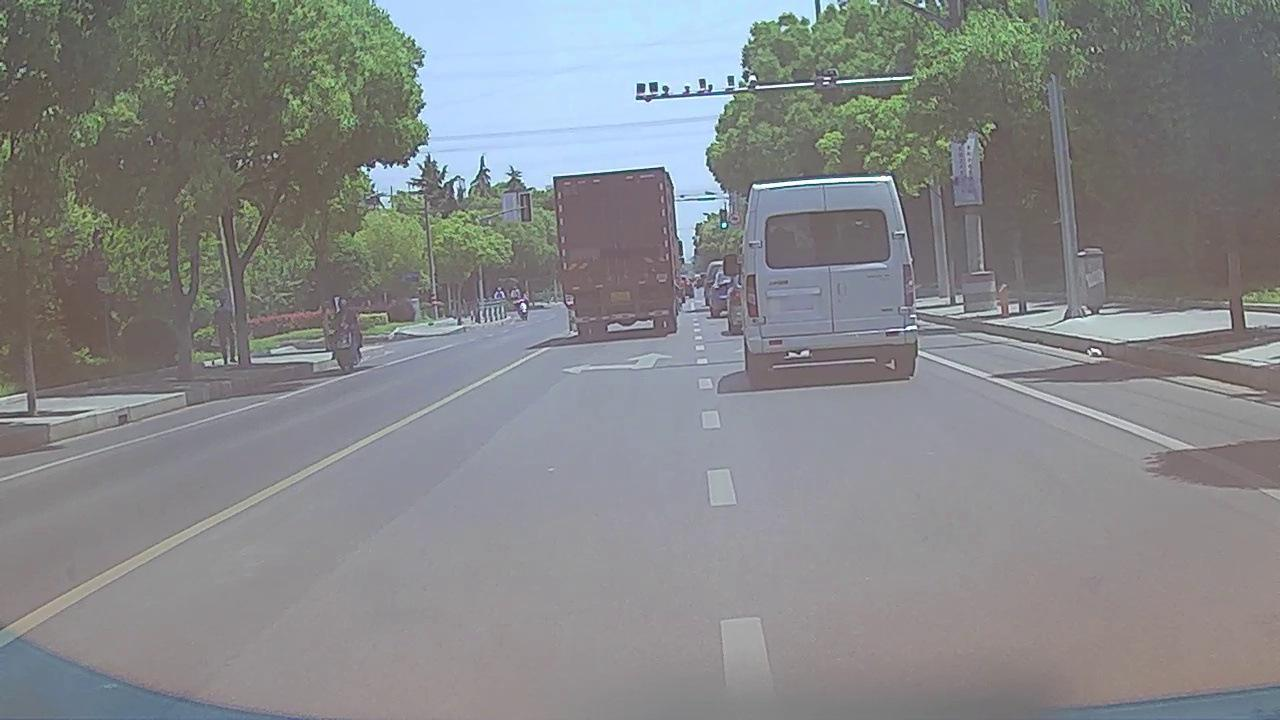traffic_light: (719, 211, 728, 230)
